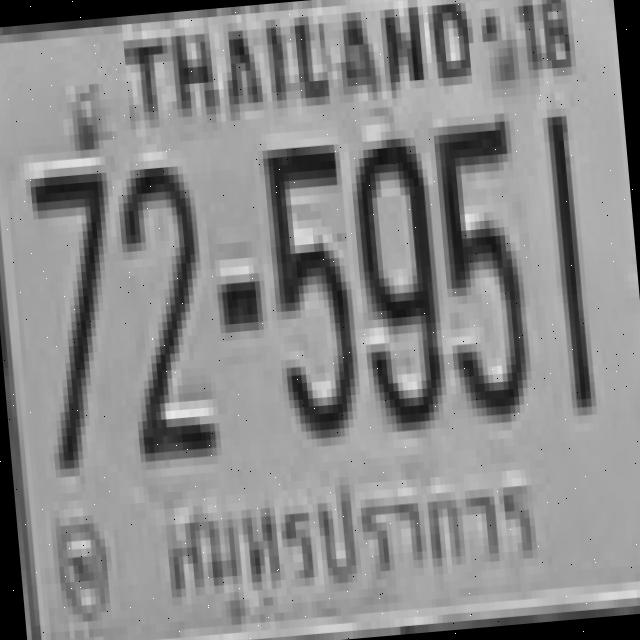1: (541, 108, 591, 408)
2: (112, 152, 214, 458)
5: (428, 113, 530, 418), (256, 136, 358, 433)
7: (24, 160, 126, 466), (24, 160, 121, 410)
9: (347, 128, 444, 426)
SamutPrakan: (156, 459, 546, 629)
